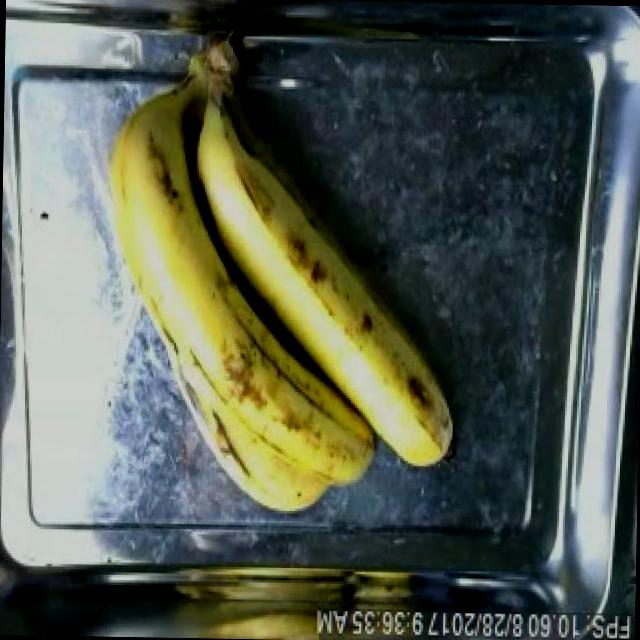Banana: (103, 34, 463, 518)
